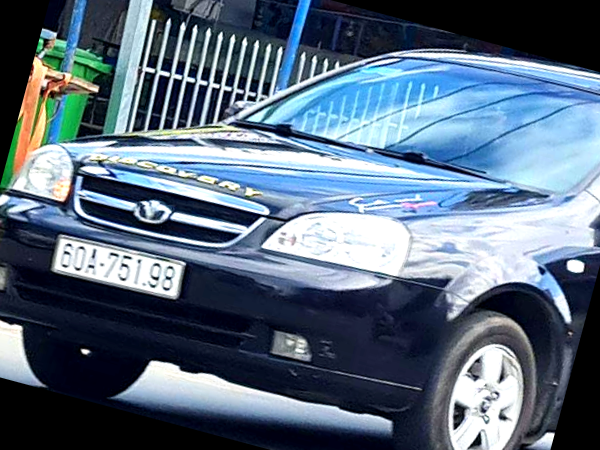lisence: (52, 235, 185, 299)
